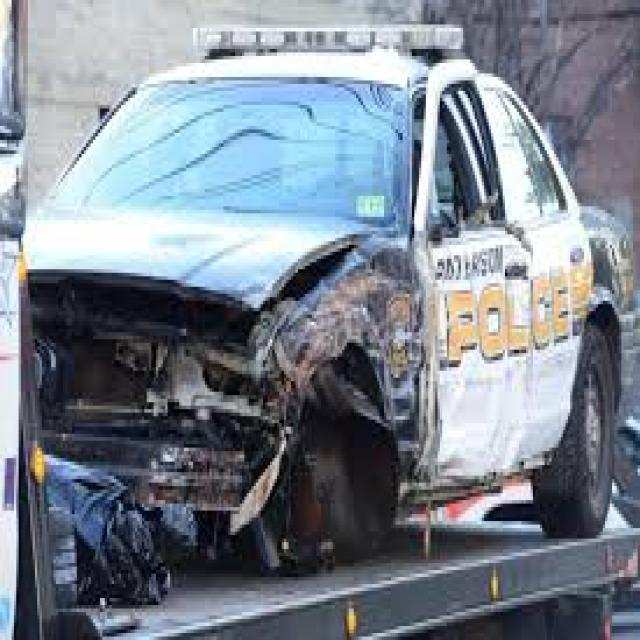severe: (14, 184, 487, 640)
